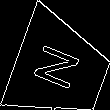N_E: (32, 42, 89, 97)
